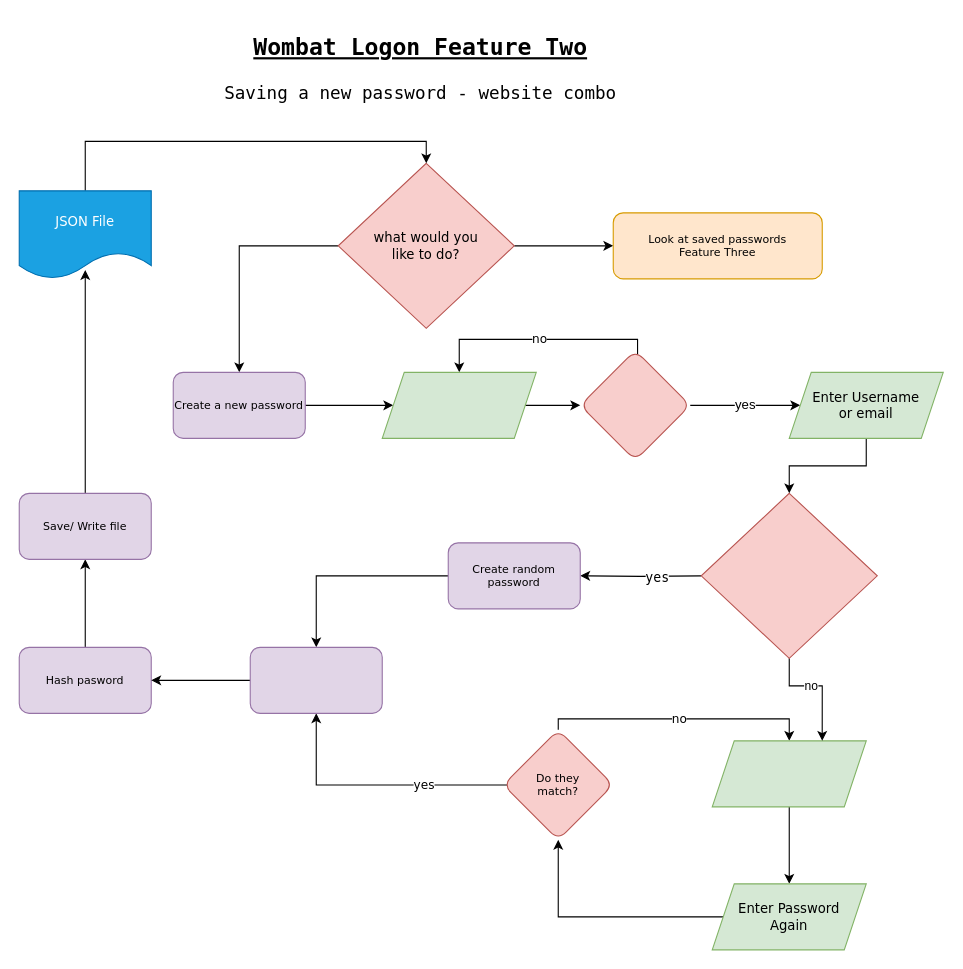
The diagram is 963 pixels wide and 969 high, and some of its shapes have lost their labels. Here are the shapes that lost their labels. From the top down, the centre of each, then its label:
(458,404): Enter URL
(634,404): check if URL is Valid
(788,575): Do you want us to create you a secure password?
(315,679): Display password to user
(788,773): Enter Password
